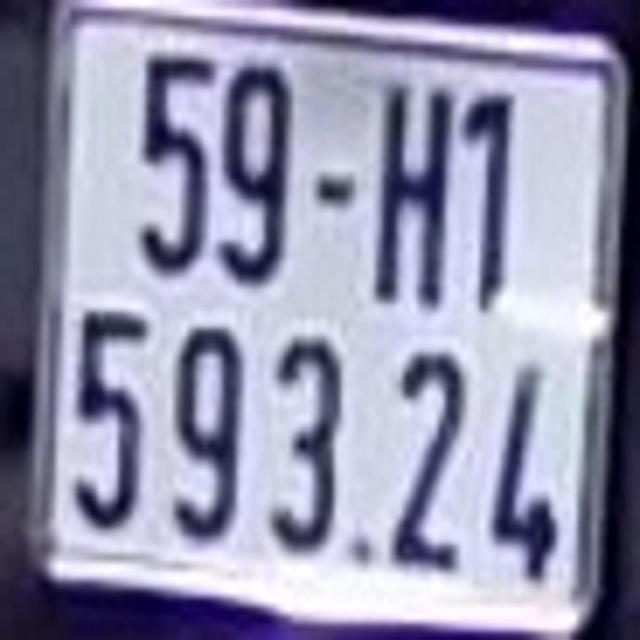1: (458, 75, 516, 322)
2: (388, 327, 467, 580)
3: (272, 324, 346, 566)
4: (490, 358, 561, 588)
5: (138, 40, 216, 279), (74, 318, 153, 532)
9: (170, 316, 248, 554), (220, 51, 290, 295)
H: (374, 74, 456, 314)
